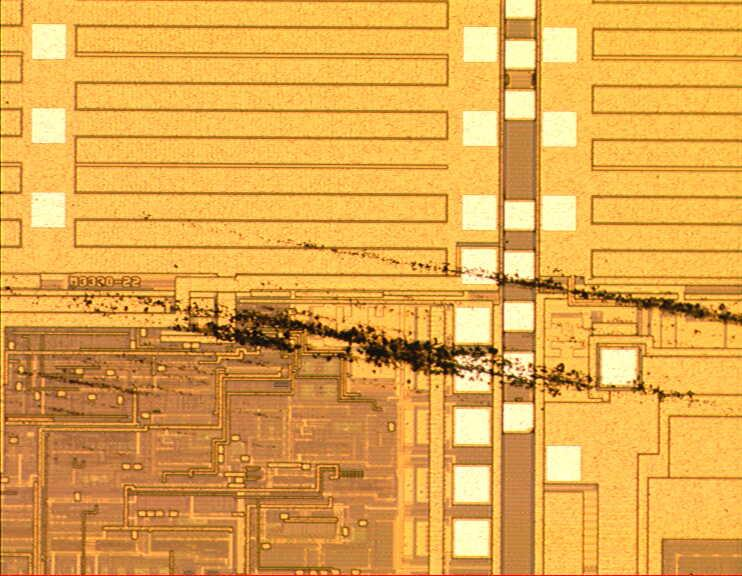SCRATCH: (1, 205, 741, 435)
